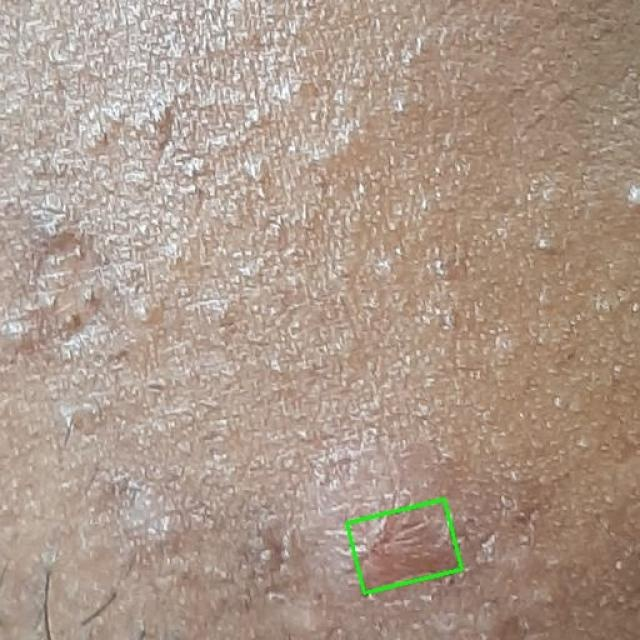Scabies: (347, 499, 462, 593)
